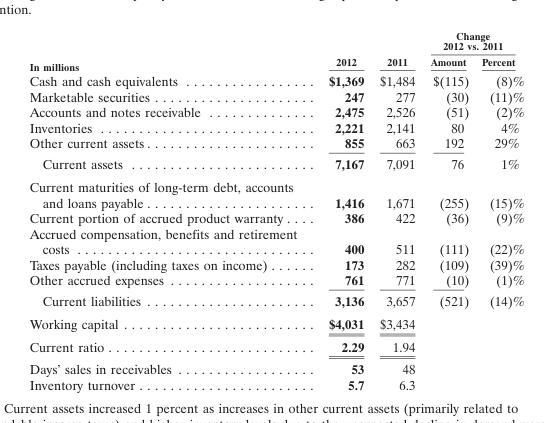table: (28, 28, 523, 392)
table column: (28, 28, 312, 392), (312, 28, 371, 392), (422, 28, 474, 392), (371, 28, 422, 392), (474, 28, 523, 392)
table column header: (28, 28, 523, 72)
table row: (28, 174, 523, 209), (28, 225, 523, 256), (28, 28, 523, 53), (28, 311, 523, 334), (28, 334, 523, 357), (28, 289, 523, 311), (28, 153, 523, 174), (28, 53, 523, 72), (28, 134, 523, 153), (28, 357, 523, 376), (28, 271, 523, 289), (28, 72, 523, 88), (28, 103, 523, 119), (28, 209, 523, 225), (28, 376, 523, 392), (28, 88, 523, 103), (28, 119, 523, 134), (28, 256, 523, 271)
table spanning cell: (28, 28, 312, 72), (312, 28, 371, 72), (422, 28, 523, 53), (371, 28, 422, 72)
